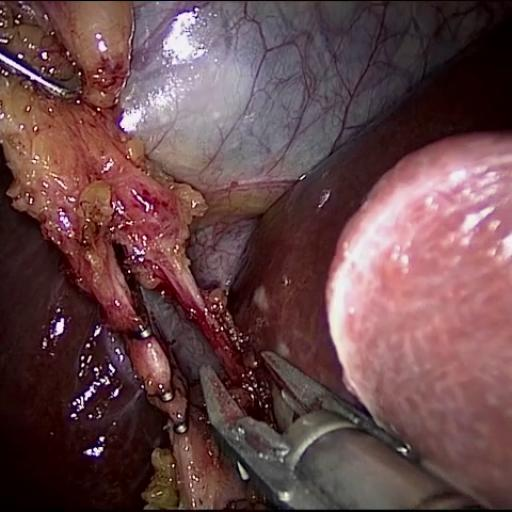Grasper: (169, 242, 480, 512), (0, 1, 141, 157)
